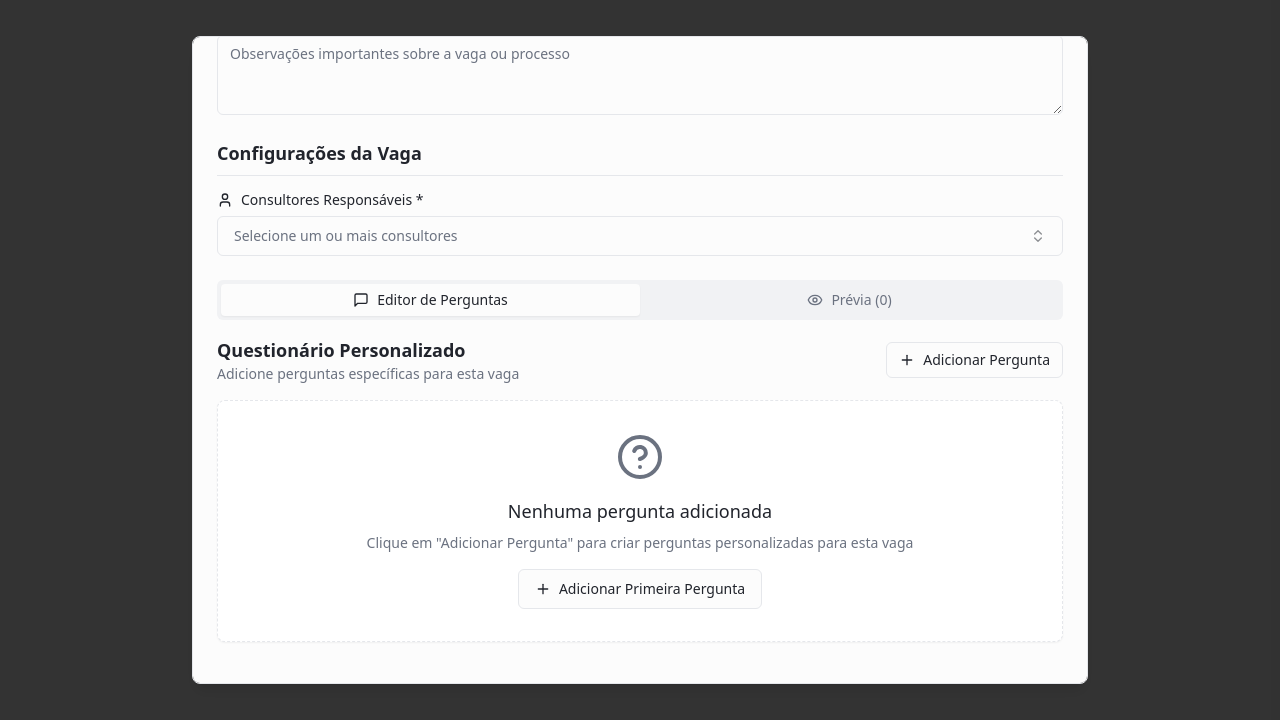
Test: AddVagaModal - Correção de Problemas › Questionário Dinâmico › should allow adding questions
(page scrolled)
Click the button "Adicionar Pergunta": (975, 360) [886,342,1063,378]
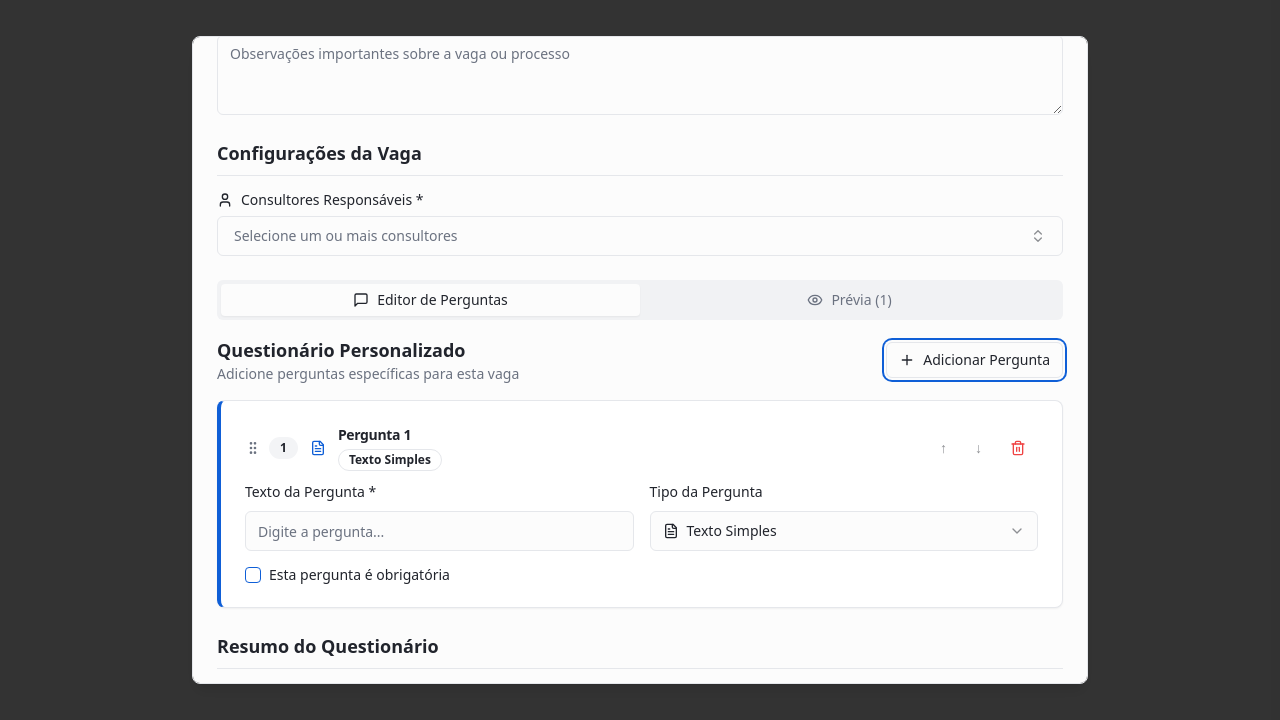
Result: the tab "Prévia (1)" is shown at [640,284,1059,316]
